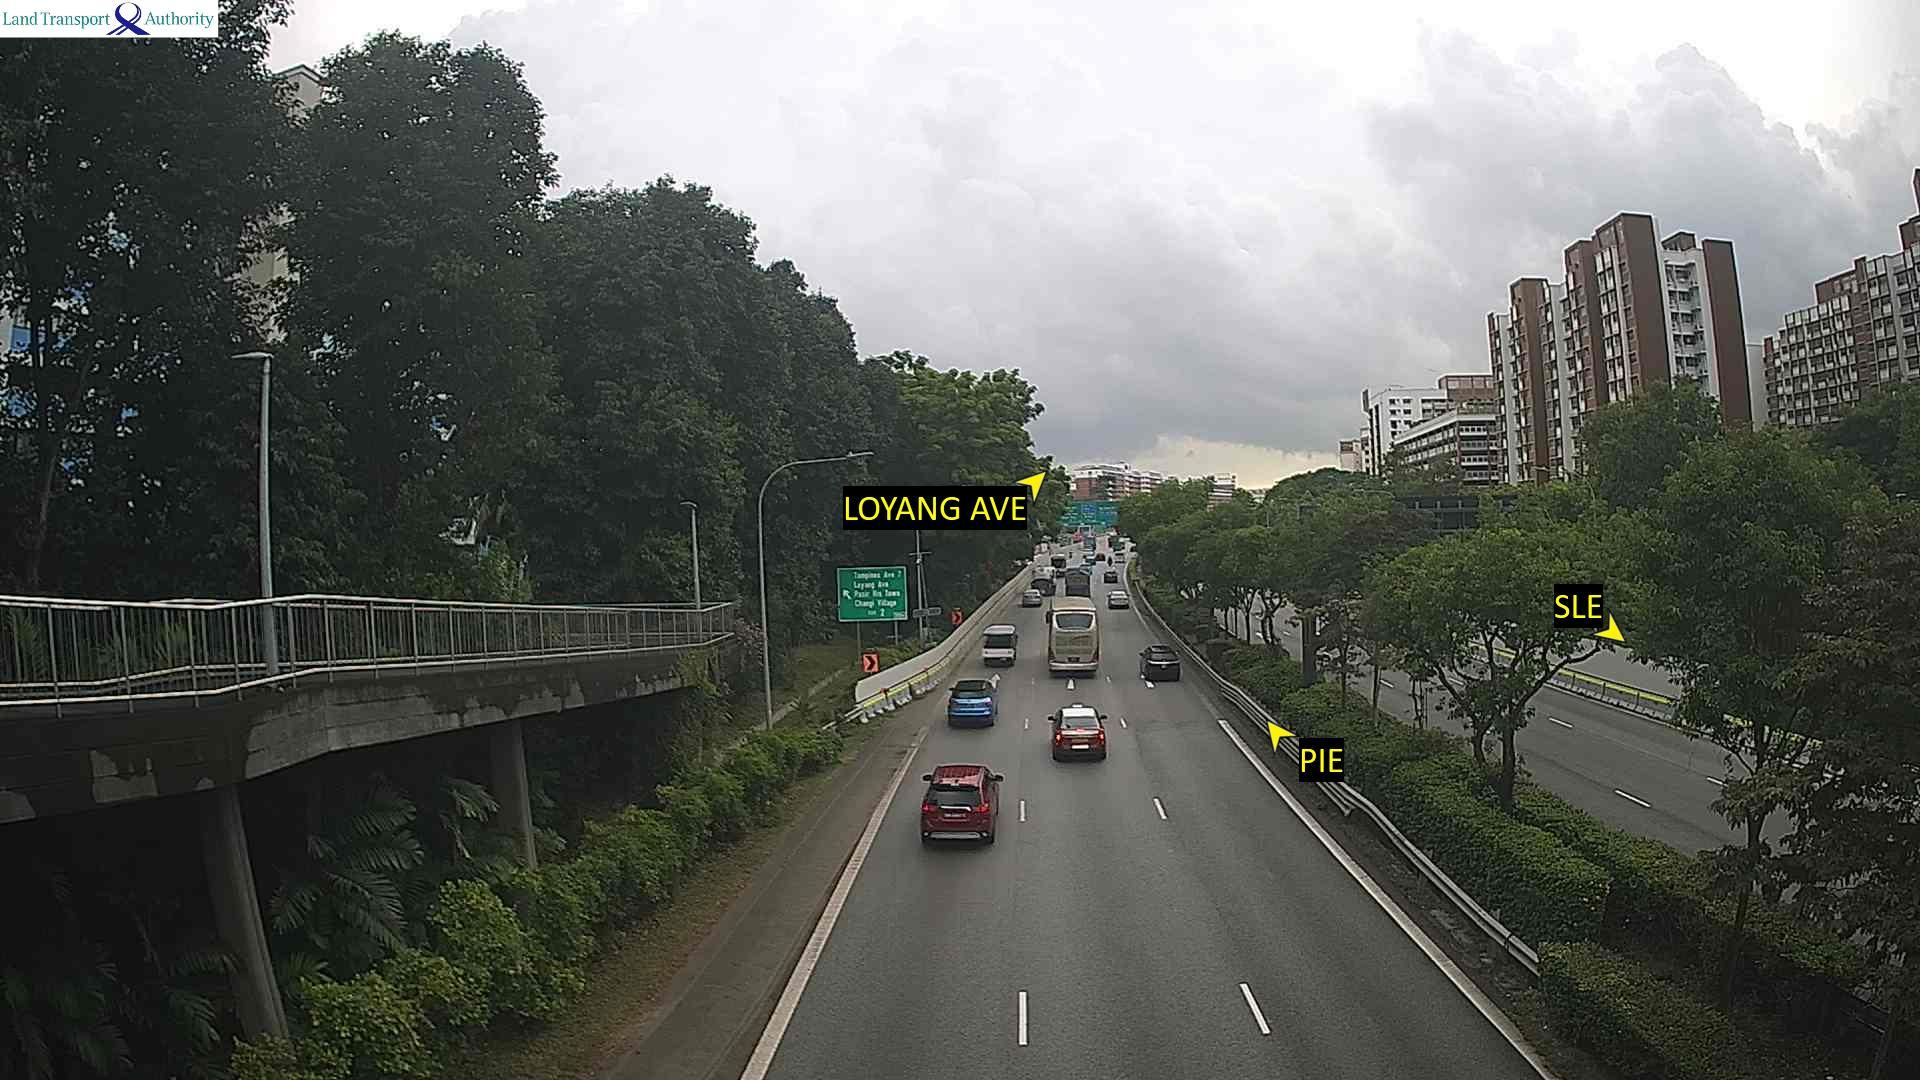bus: (1044, 596, 1099, 676)
cars: (919, 762, 1003, 845), (1047, 703, 1106, 761), (946, 676, 998, 728), (1137, 642, 1180, 683), (980, 622, 1017, 665), (1029, 566, 1055, 595), (1106, 587, 1129, 608), (1020, 588, 1041, 606), (1050, 553, 1066, 573), (1103, 566, 1117, 582)
trucks: (1063, 568, 1089, 596)
